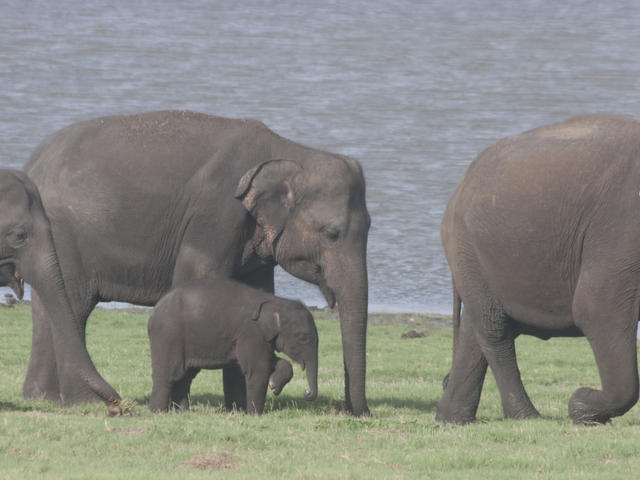elephant: (11, 107, 390, 435), (434, 104, 640, 428), (1, 160, 130, 417), (139, 274, 328, 422)
